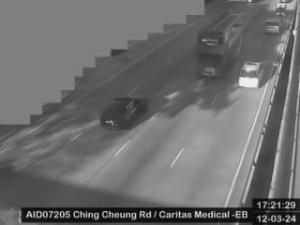bus: (196, 14, 246, 78)
vehicle: (100, 98, 146, 126), (238, 61, 264, 89), (262, 18, 280, 34), (277, 4, 285, 14), (280, 0, 292, 2)
